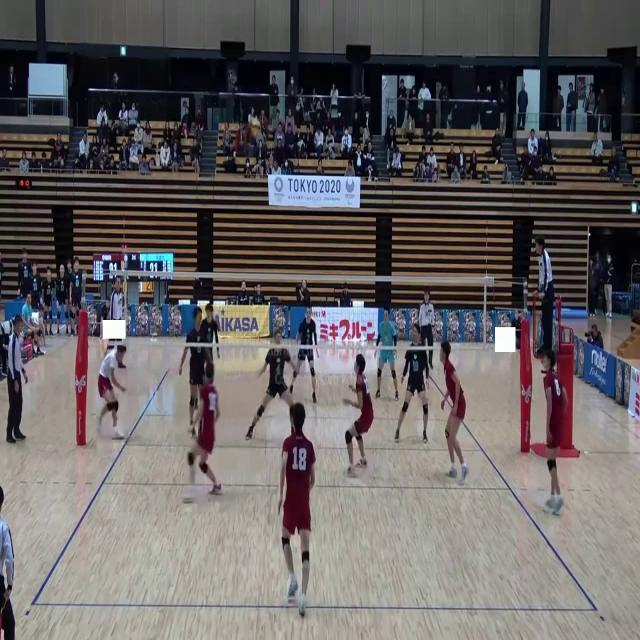volleyball: (252, 120, 260, 132)
